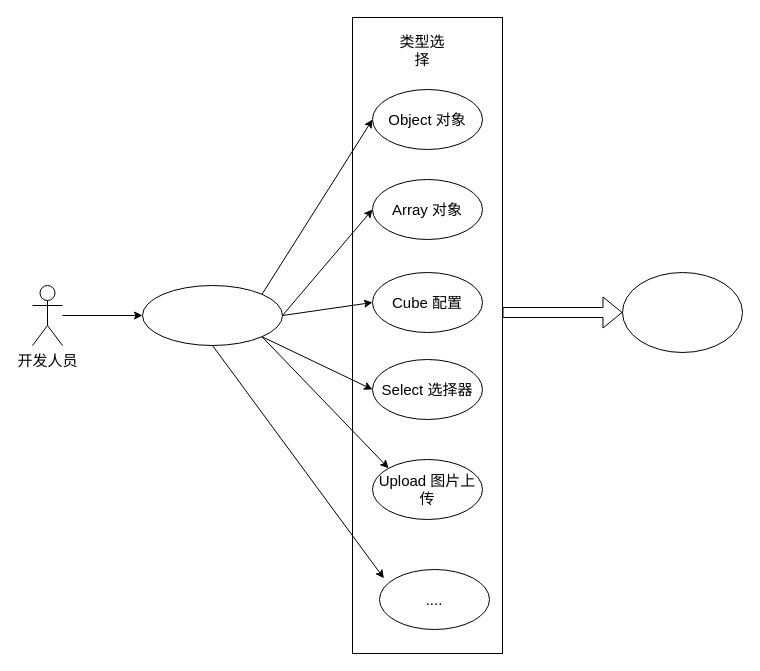
The diagram is 760 pixels wide and 671 high, and some of its shapes have lost their labels. The box of each missing label's shape, as (x1, y1, x2, y2) in pixels:
Schema 生成器: (142, 284, 282, 346)
导出JSON: (622, 272, 742, 352)
